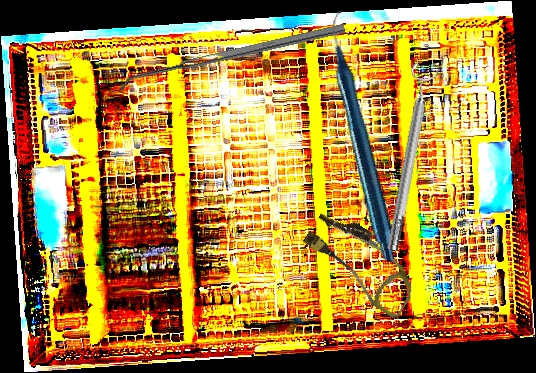Cannula: (294, 203, 429, 321)
Fixation Ring: (375, 62, 443, 253)
Handpiece: (255, 10, 475, 263)
Spatula Surgical: (118, 23, 348, 94)
